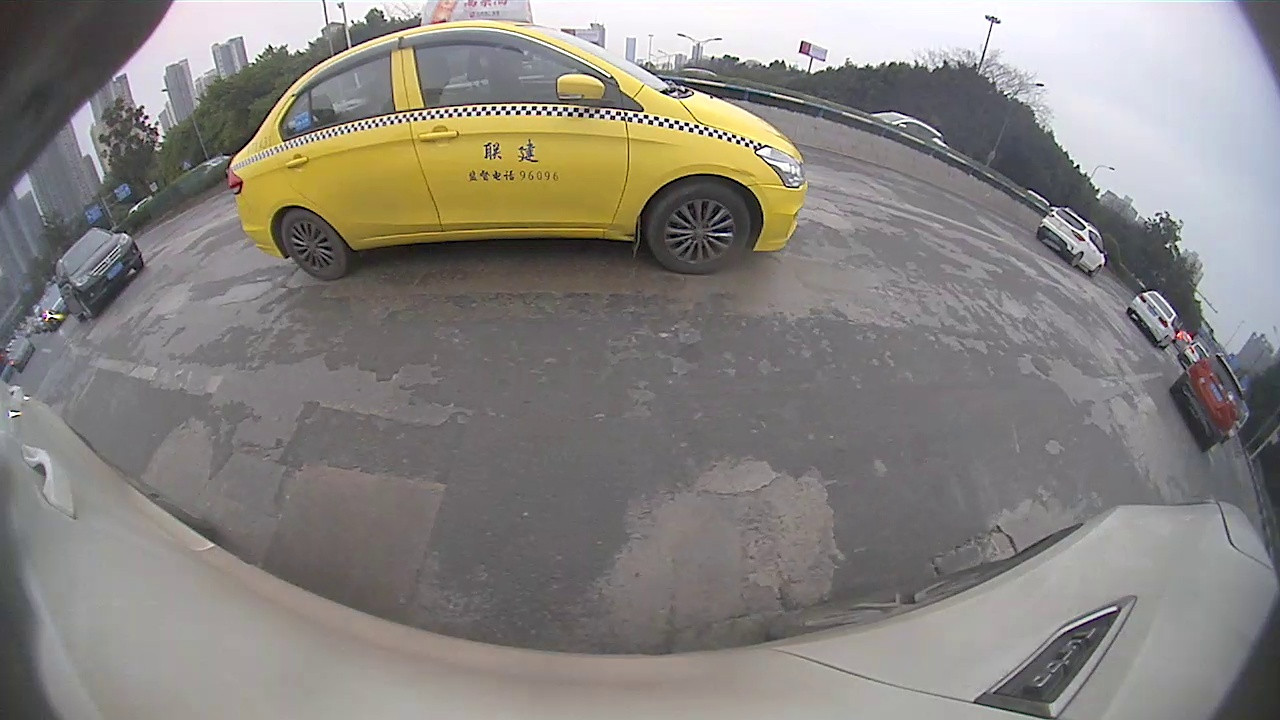car: (228, 1, 806, 281), (55, 229, 143, 321), (1170, 352, 1247, 451), (1038, 205, 1106, 275), (1126, 290, 1177, 350), (36, 285, 69, 329)
front: (649, 178, 751, 277)
rear: (279, 210, 349, 281), (1068, 252, 1084, 268)
